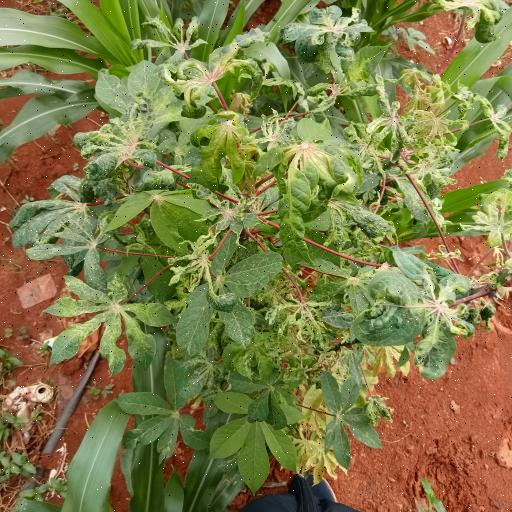Cassava_Mosaic: (359, 250, 471, 382), (255, 140, 358, 262), (46, 282, 176, 367), (124, 355, 216, 451), (71, 102, 153, 184), (283, 5, 365, 61), (194, 111, 252, 189)
